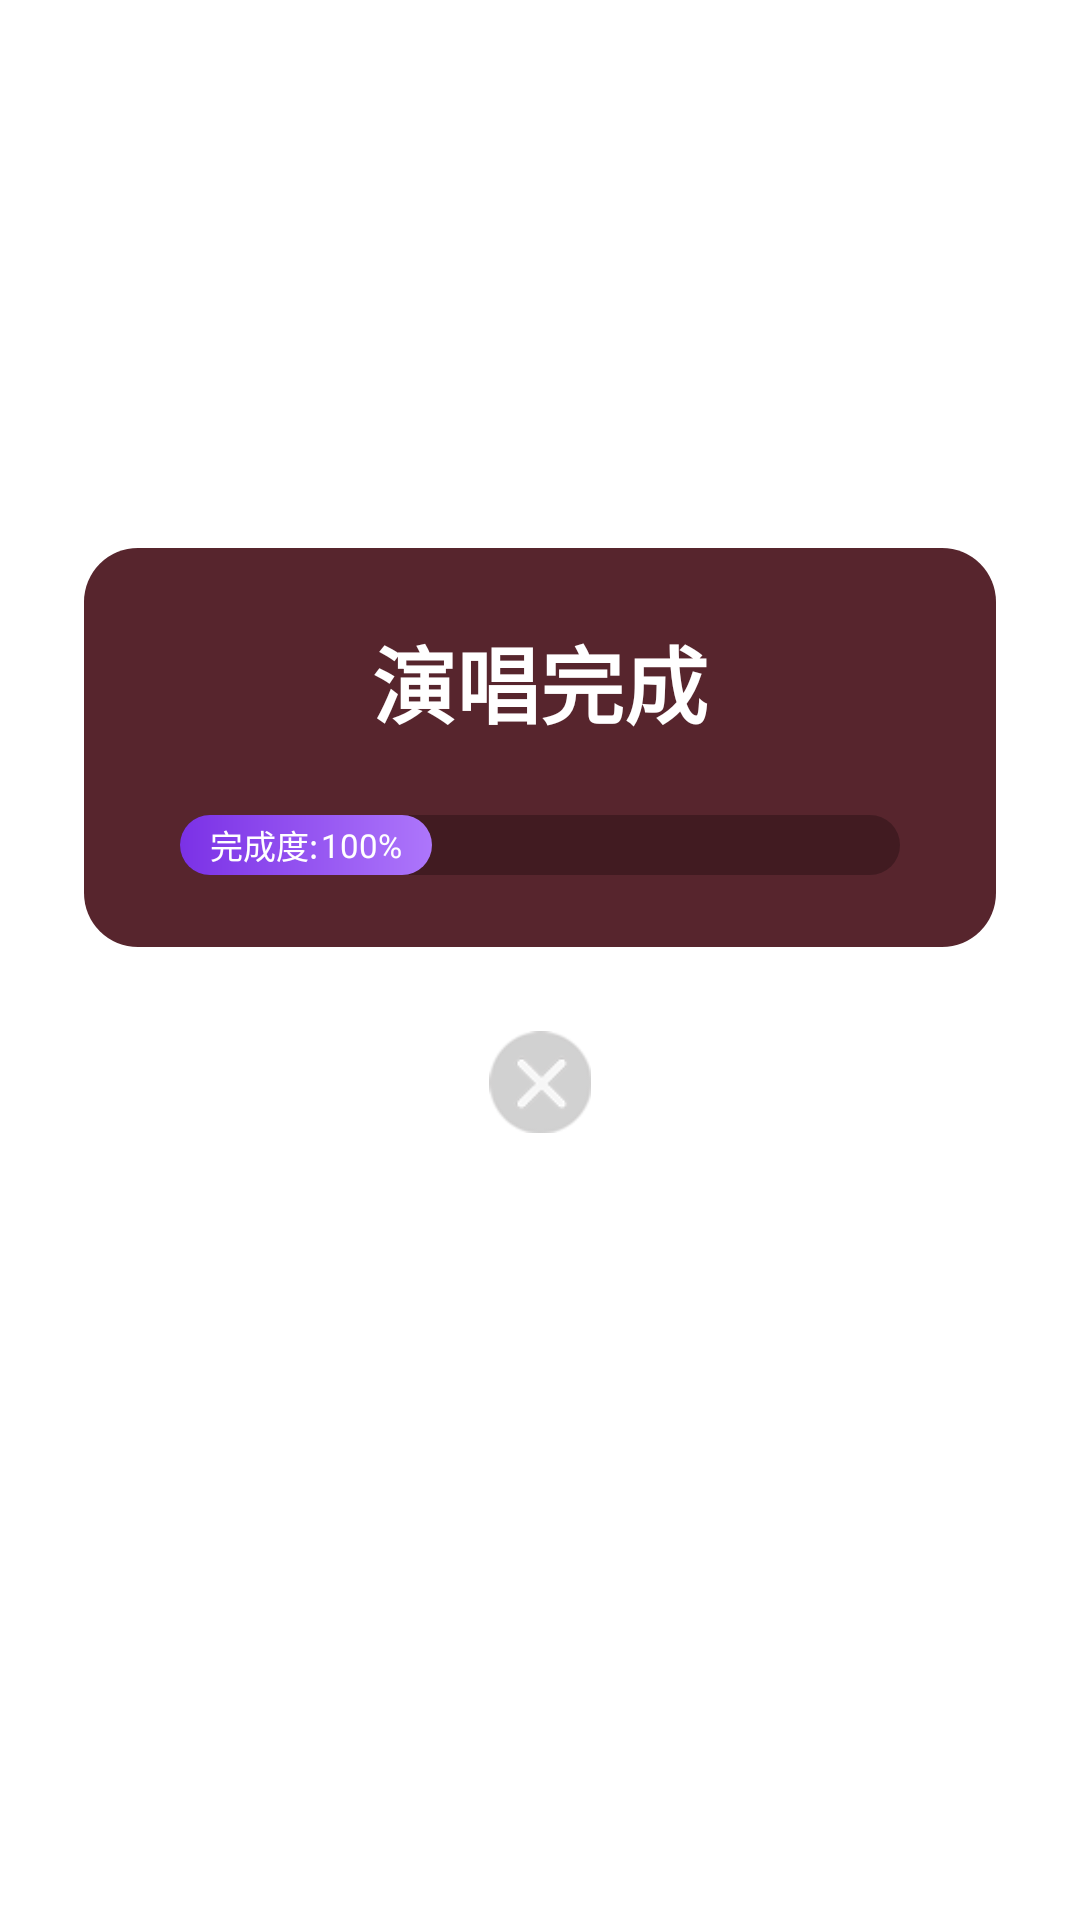

Named icons in this screenshot (1080px x 1920px) and their centers, (x,y):
close: (540,1082)
